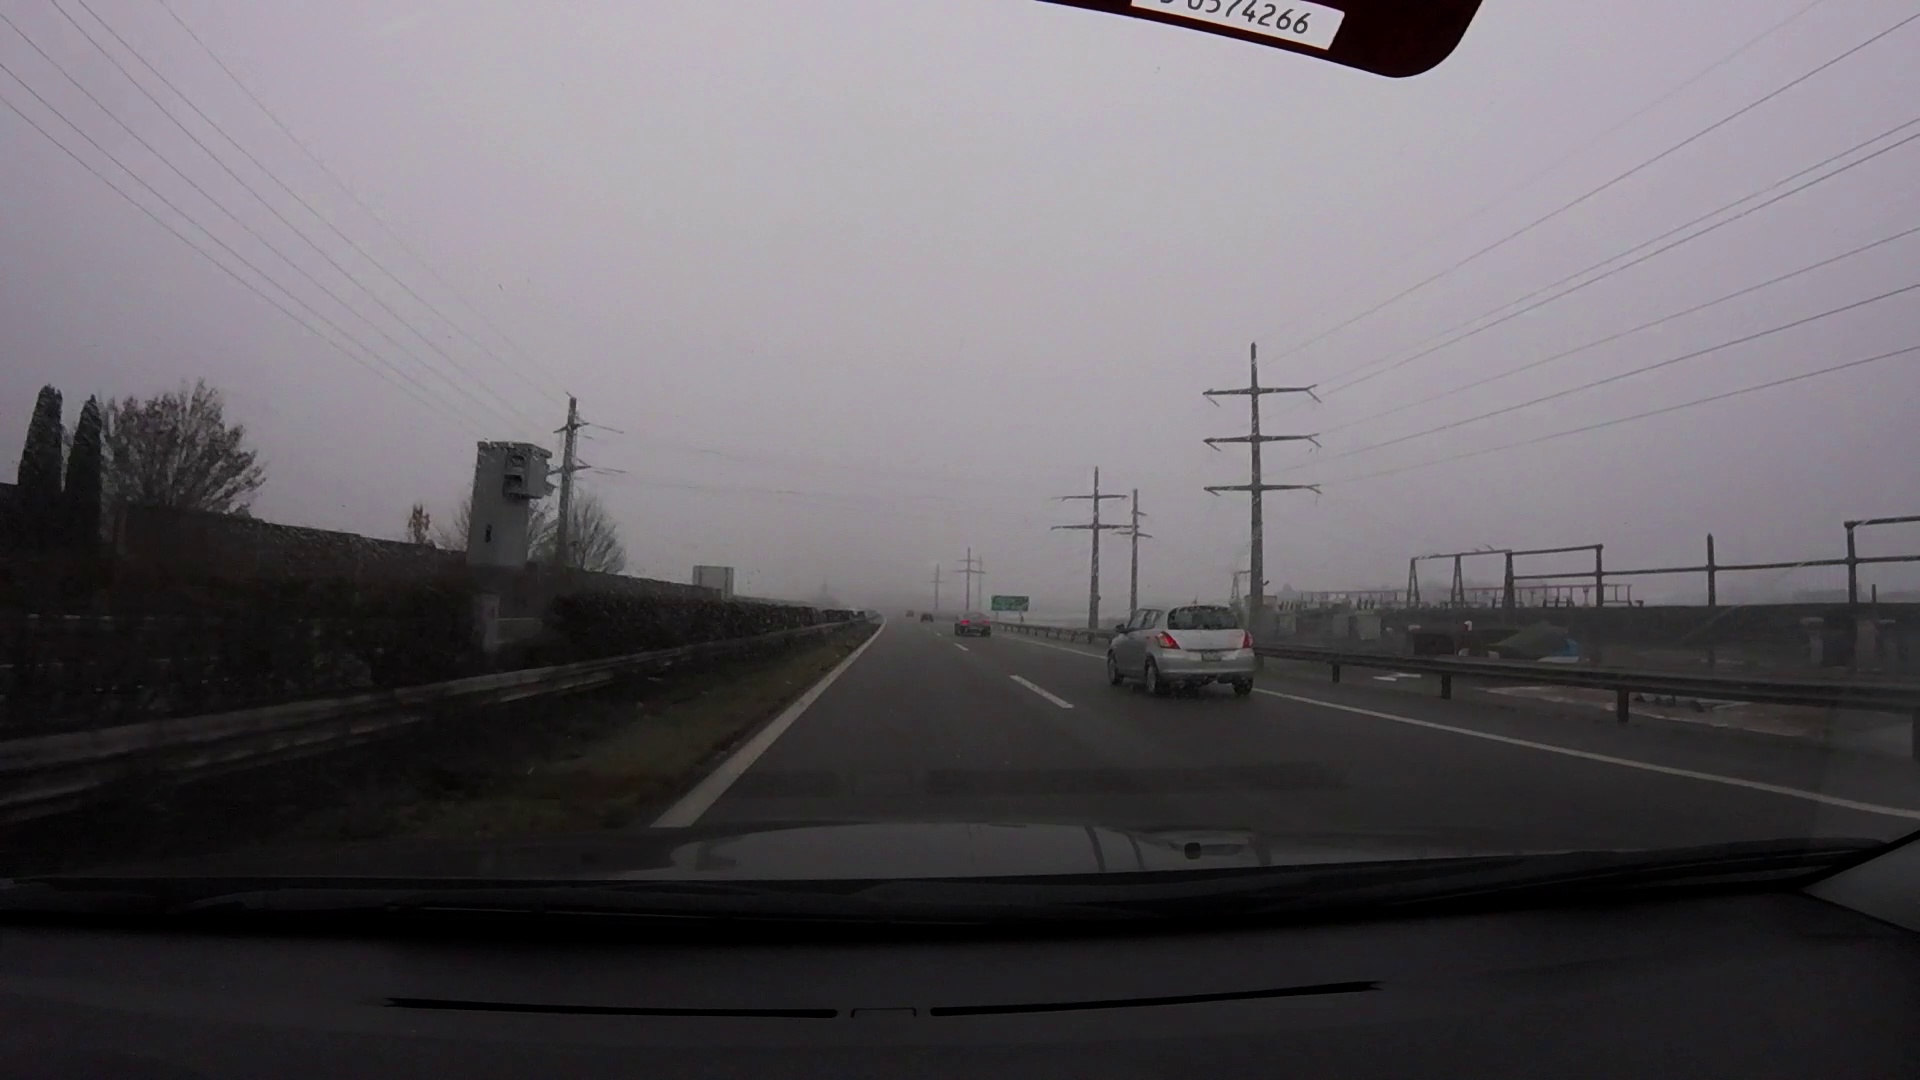radar: (462, 439, 560, 607)
